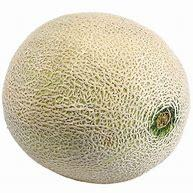Melon Ripe: (2, 12, 190, 184)
